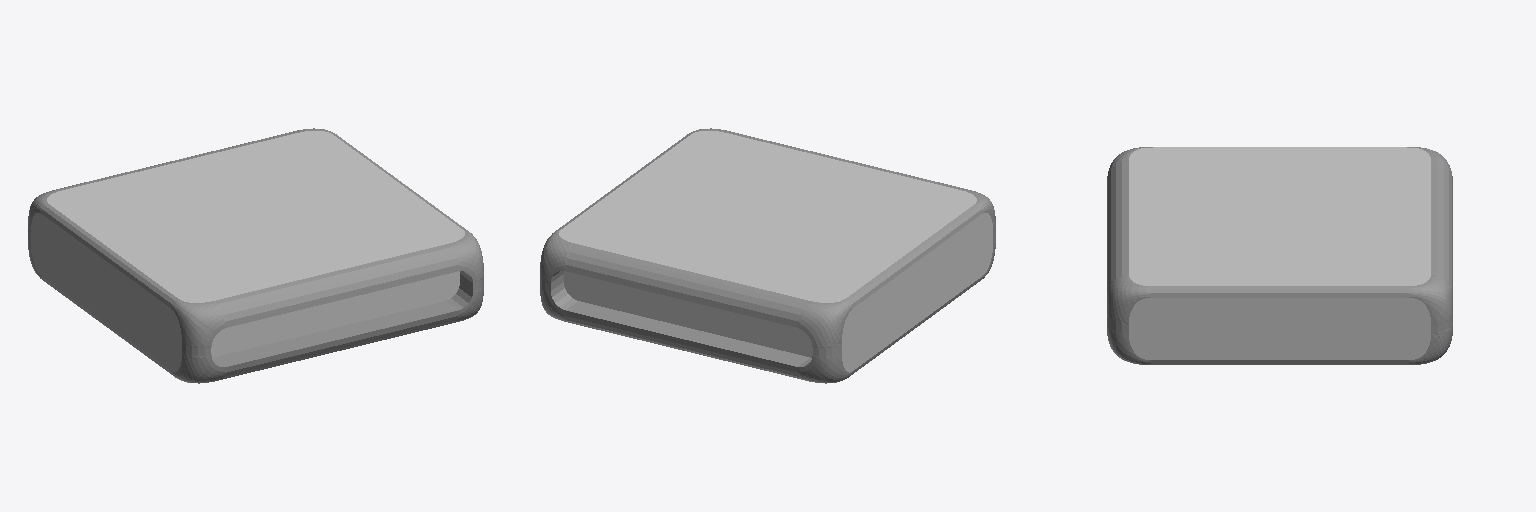
The model's file is thick-normal-medium.obj.
3 views of the same model, side by side, from view 1: azimuth 30°, elevation 25°; view 2: azimuth 150°, elevation 25°; view 3: azimuth 270°, elevation 25° (orthographic).
Visible parts, largest first — view 1: thick-normal-medium; view 2: thick-normal-medium; view 3: thick-normal-medium.
Part boxes in pixels (x1,y1,x2,y2): thick-normal-medium: (28,128,483,383); thick-normal-medium: (540,128,995,383); thick-normal-medium: (1107,147,1452,364).
Bounding box in the file's own units: 4 × 1 × 4.